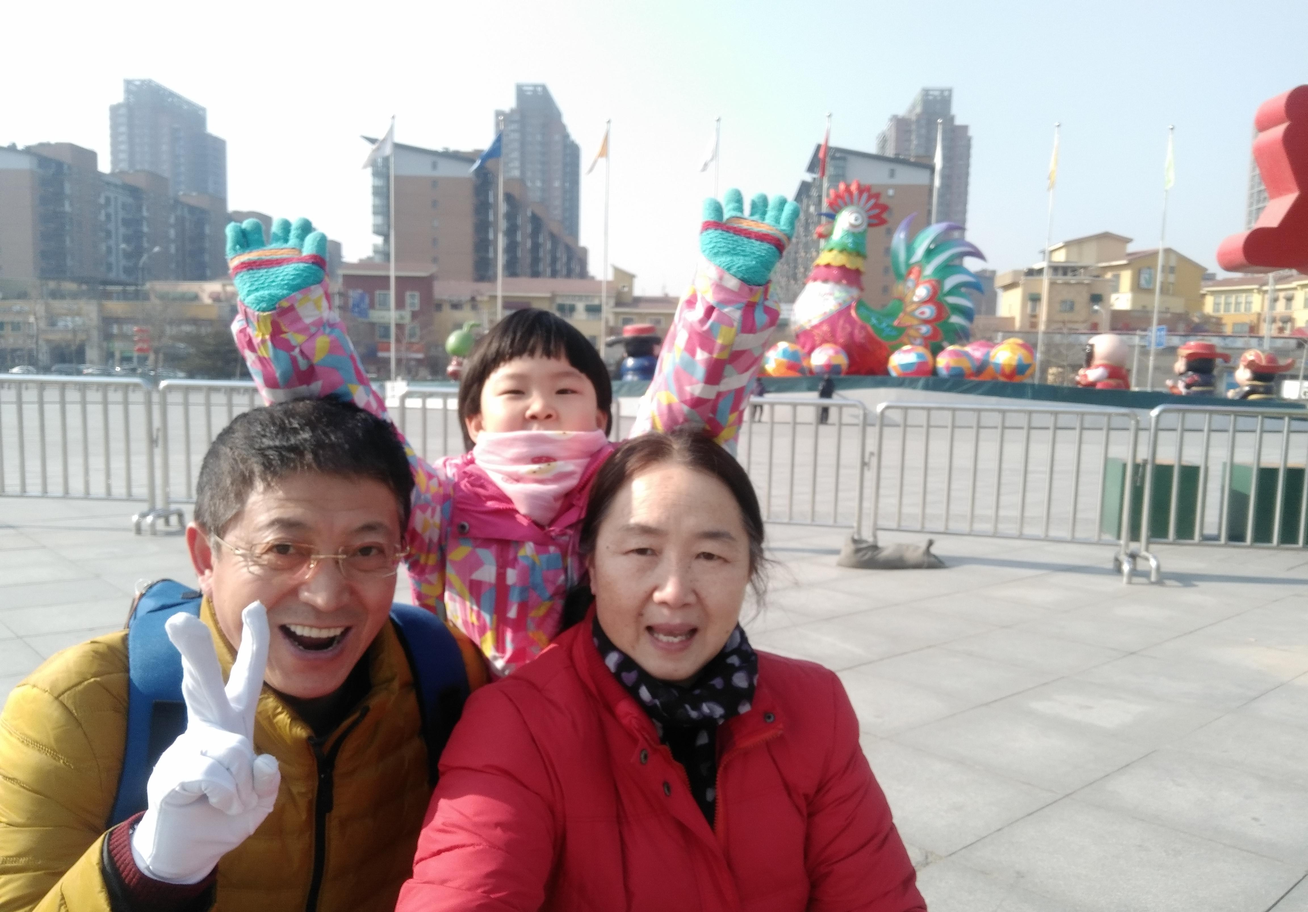NONE: (217, 511, 404, 693), (600, 517, 750, 670)
WRONG: (481, 364, 605, 488)
